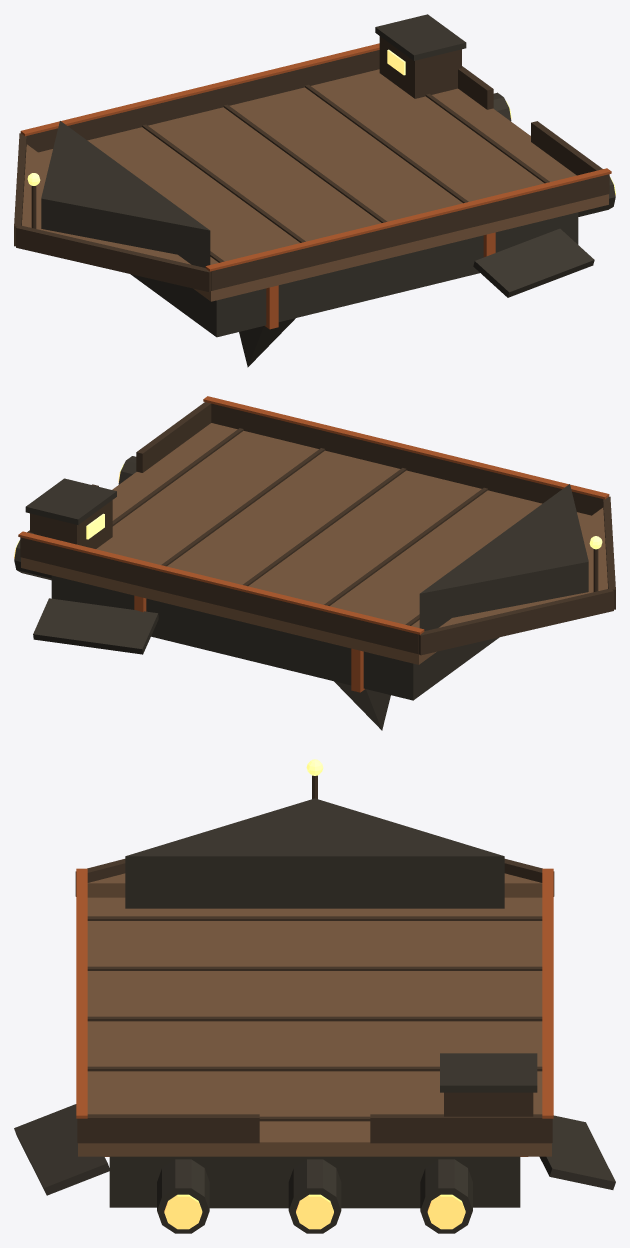
File: skyship.glb
3 renders of one model, top to bottom at view 1: azimuth 30°, elevation 25°; view 2: azimuth 150°, elevation 25°; view 3: azimuth 270°, elevation 25°, orthographic. The views are drawn at different scales.
Visible parts, largest first — view 1: Cube, Cube.001, tri.001, Cube.003, Cube.006, Cube.004, Cube.013, Cube.009, Cube.015, Cube.016, Cube.010, tri (+9 smaller); view 2: Cube, Cube.001, tri.001, Cube.006, Cube.003, Cube.014, Cube.007, Cube.010, Cube.009, Cube.016, tri, Cube.005 (+8 smaller); view 3: Cube, tri.001, Cube.001, Cube.005, Cube.008, Cube.013, Cube.016, Cube.014, Cube.009, Cube.010, Cube.020, Cylinder.002 (+13 smaller).
Boxes of the visible parts, box(x1,y1,x2,y2) form: Cube: box(38, 69, 608, 301); Cube.001: box(130, 212, 578, 337); tri.001: box(41, 121, 210, 267); Cube.003: box(211, 174, 609, 290); Cube.006: box(26, 50, 379, 152); Cube.004: box(16, 225, 210, 292); Cube.013: box(473, 228, 594, 297); Cube.009: box(205, 168, 611, 271); Cube.015: box(379, 36, 461, 98); Cube.016: box(375, 14, 466, 60); Cube.010: box(20, 43, 379, 136); tri: box(22, 144, 190, 264); Cube: box(21, 423, 591, 664); Cube.001: box(51, 575, 499, 700); tri.001: box(419, 484, 588, 630); Cube.006: box(20, 537, 418, 654); Cube.003: box(211, 403, 603, 515); Cube.014: box(33, 598, 158, 654); Cube.007: box(419, 589, 613, 655); Cube.010: box(18, 531, 424, 634); Cube.009: box(203, 396, 609, 499); Cube.016: box(25, 478, 116, 524); tri: box(439, 507, 607, 627); Cube.005: box(136, 402, 211, 472); Cube: box(78, 897, 551, 1156); tri.001: box(125, 798, 504, 908); Cube.001: box(109, 1156, 520, 1207); Cube.005: box(78, 1114, 259, 1143); Cube.008: box(370, 1114, 551, 1143); Cube.013: box(14, 1104, 109, 1195); Cube.016: box(440, 1053, 537, 1092); Cube.014: box(539, 1115, 615, 1189); Cube.009: box(76, 868, 87, 1118); Cube.010: box(542, 868, 553, 1118); Cube.020: box(87, 1016, 542, 1021); Cylinder.002: box(288, 1159, 341, 1233).
Size of the model in its own units: 29.92 by 13.02 by 22.87.
